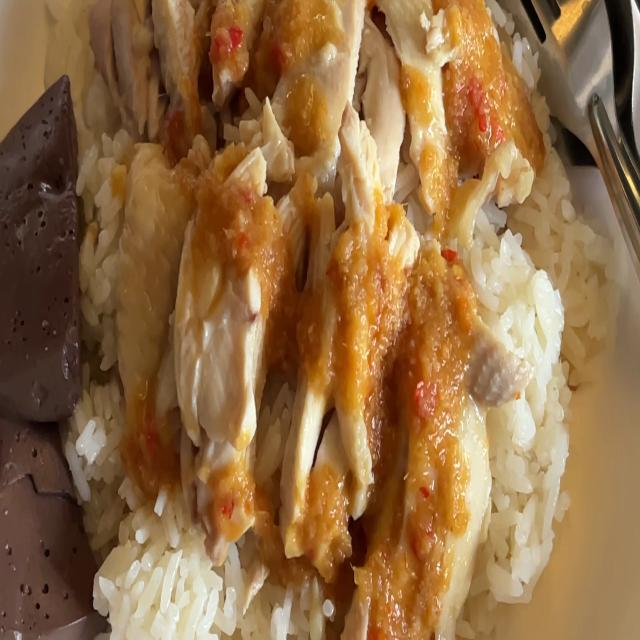boiled_chicken: (91, 0, 509, 555)
boiled_chicken_blood_jelly: (0, 70, 88, 422), (0, 403, 96, 630)
chicken_rice: (0, 0, 596, 635)
